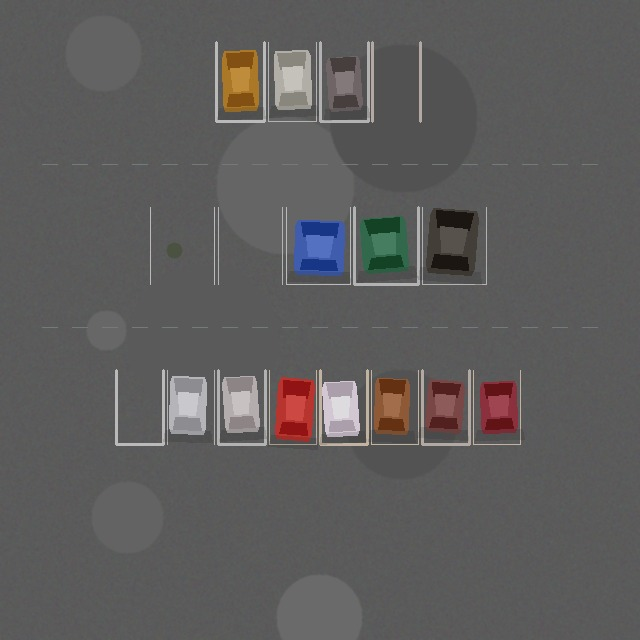space-empty: (150, 207, 214, 284), (218, 207, 282, 284), (372, 42, 420, 121), (116, 370, 163, 444)
space-occupied: (286, 207, 350, 284), (354, 207, 418, 284), (422, 207, 486, 284), (216, 42, 264, 121), (268, 42, 316, 121), (320, 42, 368, 121), (167, 370, 214, 444), (218, 370, 265, 444), (269, 370, 316, 444), (320, 370, 367, 444), (371, 370, 418, 444), (422, 370, 469, 444), (473, 370, 520, 444)
